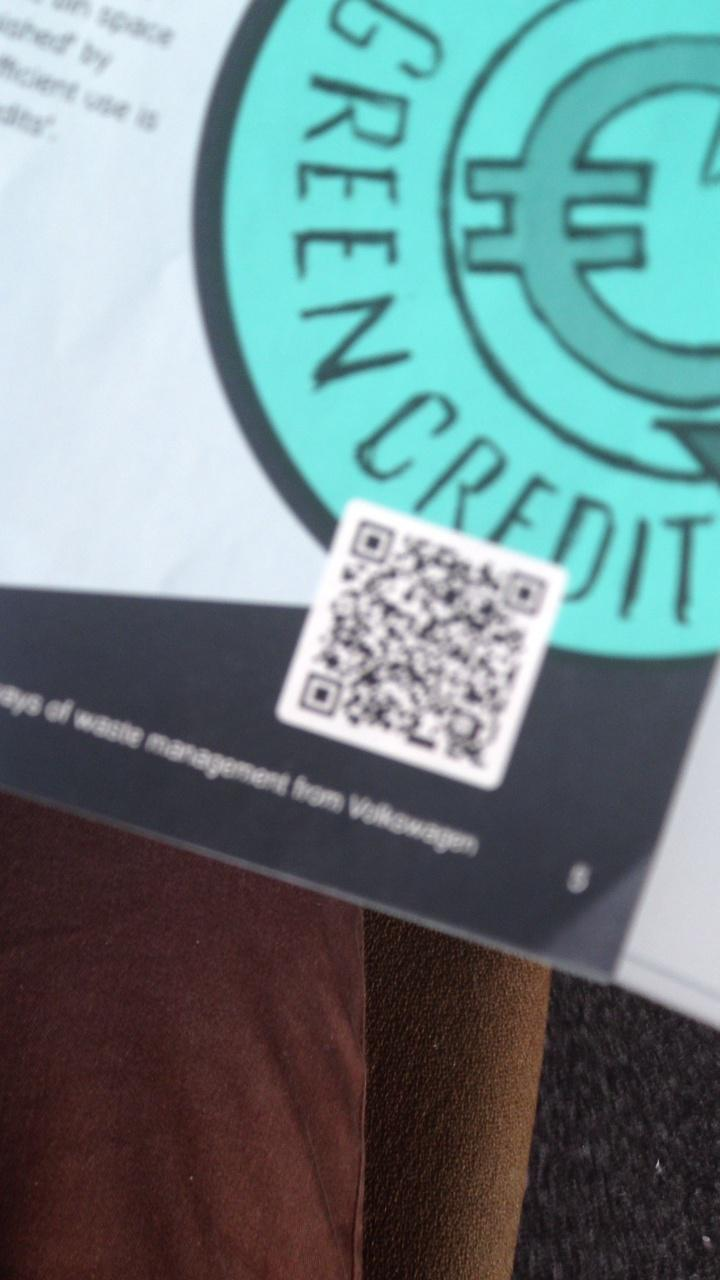Finder pattern: (497, 565, 551, 622), (342, 515, 398, 568), (294, 667, 348, 721)
